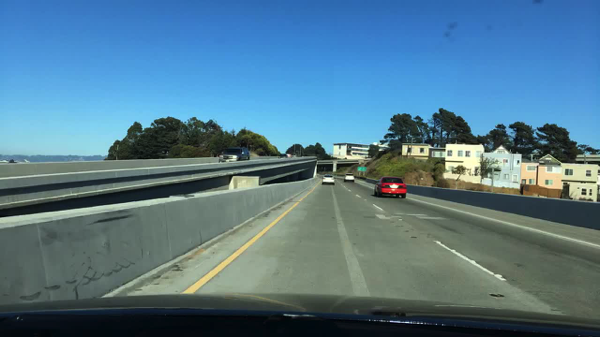car: (373, 176, 407, 198), (218, 148, 250, 162), (322, 174, 335, 185), (344, 173, 354, 182), (278, 154, 286, 159), (286, 153, 291, 159), (291, 153, 298, 157)
traffic sign: (357, 167, 365, 172)
